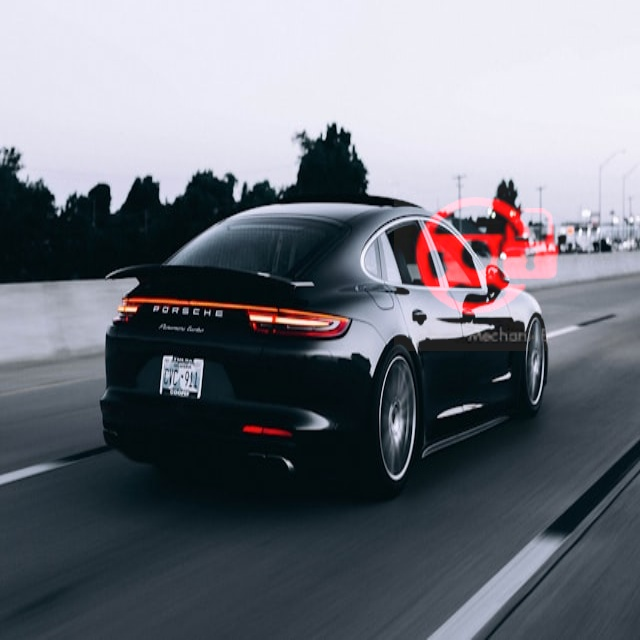symbol: (394, 162, 583, 351)
